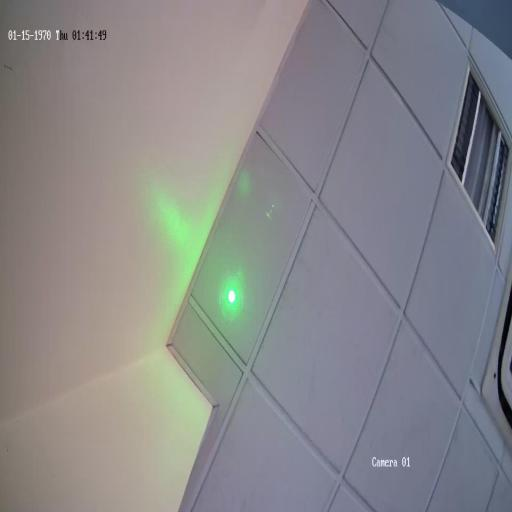laser: (218, 269, 246, 320)
